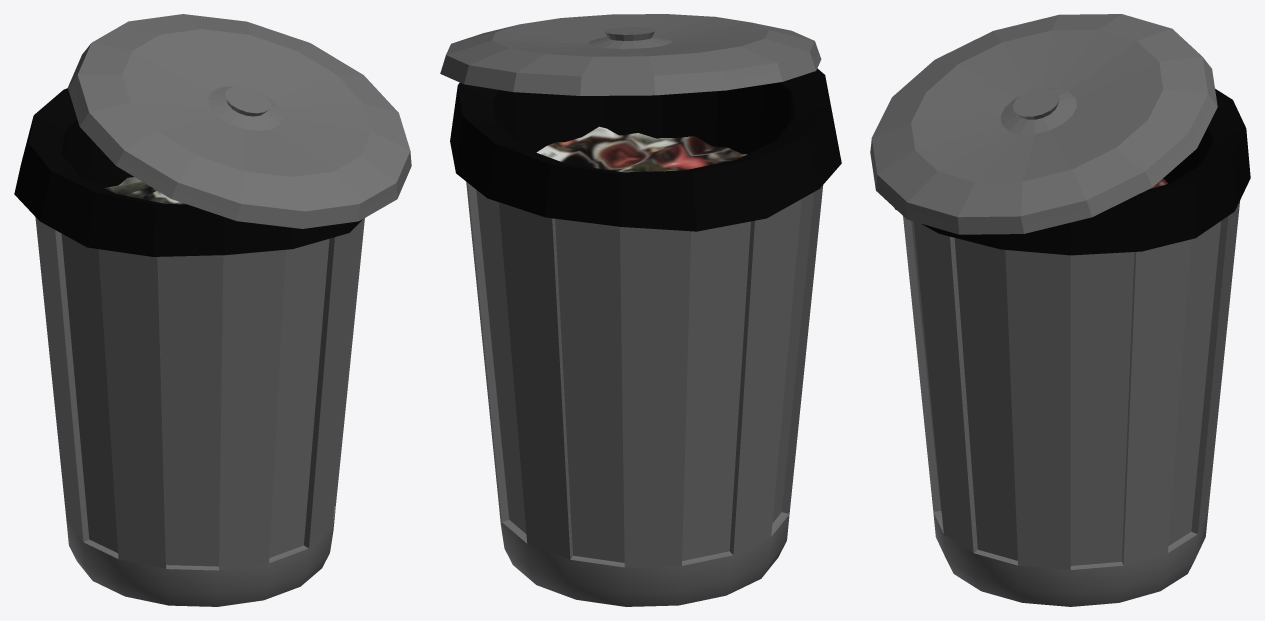
File: GarbageBin(%75).fbx
3 renders of one model, left to right at view 1: azimuth 30°, elevation 25°; view 2: azimuth 150°, elevation 25°; view 3: azimuth 270°, elevation 25°, orthographic. The views are drawn at different scales.
Visible parts, largest first — view 1: GarbageBin, Cover, GarbageBag, GarbageBin(%75); view 2: GarbageBin, GarbageBag, Cover, GarbageBin(%75); view 3: GarbageBin, Cover, GarbageBag.
Part boxes in pixels (box(x1,y1,x2,y2)): GarbageBin: box(35, 217, 364, 606); Cover: box(68, 14, 411, 228); GarbageBag: box(14, 88, 362, 256); GarbageBin(%75): box(104, 177, 185, 204); GarbageBin: box(466, 182, 823, 606); GarbageBag: box(450, 68, 841, 231); Cover: box(440, 14, 821, 95); GarbageBin(%75): box(536, 126, 746, 172); GarbageBin: box(903, 201, 1239, 606); Cover: box(870, 14, 1217, 234); GarbageBag: box(894, 88, 1250, 255).
Bounding box in the file's own units: 242 × 335 × 233.
Materials: 3 (1 with a texture image).
